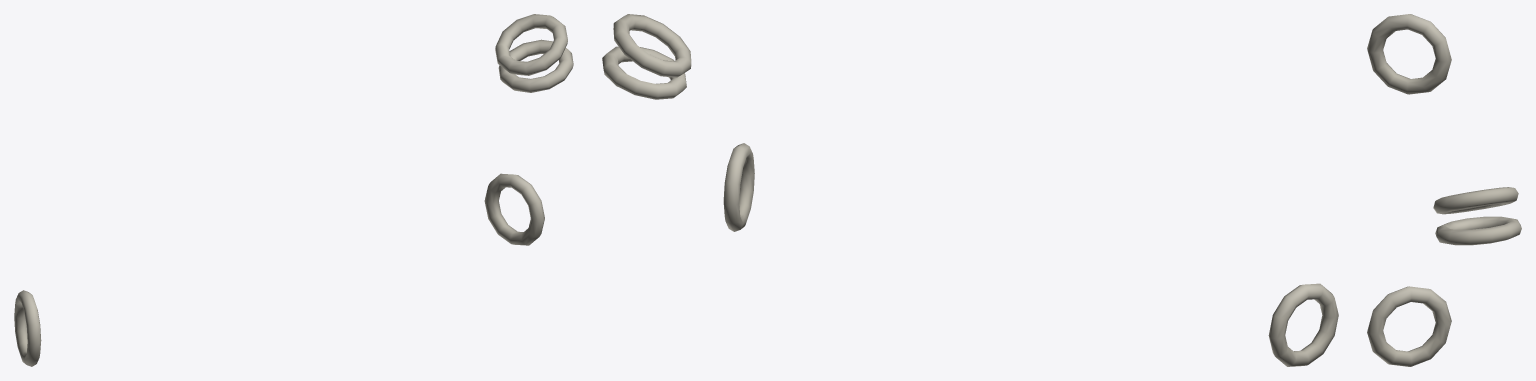
Rendered from Earring_9.fbx.
3 renders of one model, left to right at view 1: azimuth 30°, elevation 25°; view 2: azimuth 150°, elevation 25°; view 3: azimuth 270°, elevation 25°, orthographic. The views are drawn at different scales.
Parts seen in each view (by area): view 1: Earring_9; view 2: Earring_9; view 3: Earring_9.
Part boxes in pixels (x1,y1,x2,y2): Earring_9: (14,14,573,366); Earring_9: (602,14,1338,366); Earring_9: (1367,14,1521,366).
Bounding box in the file's own units: 60.3 × 18.5 × 12.08.
